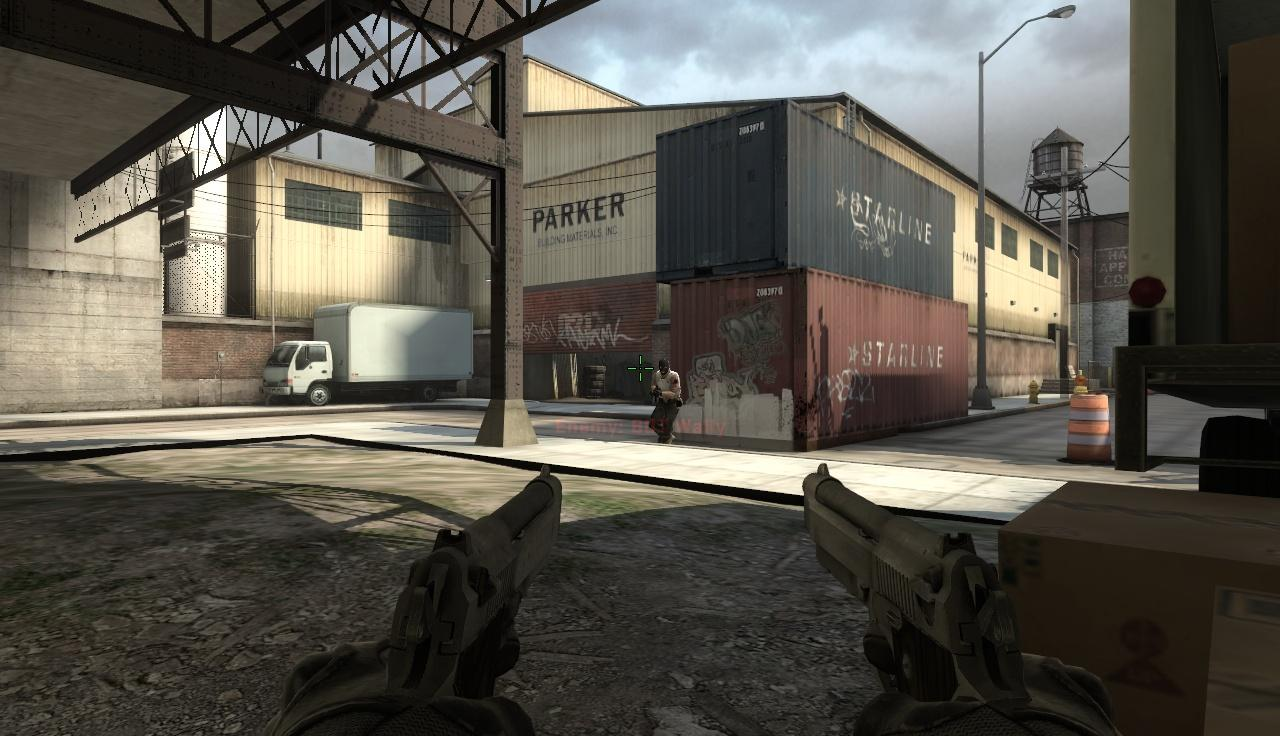pistol: (792, 465, 1126, 736)
tt: (652, 361, 680, 445)
tthead: (658, 359, 670, 376)
